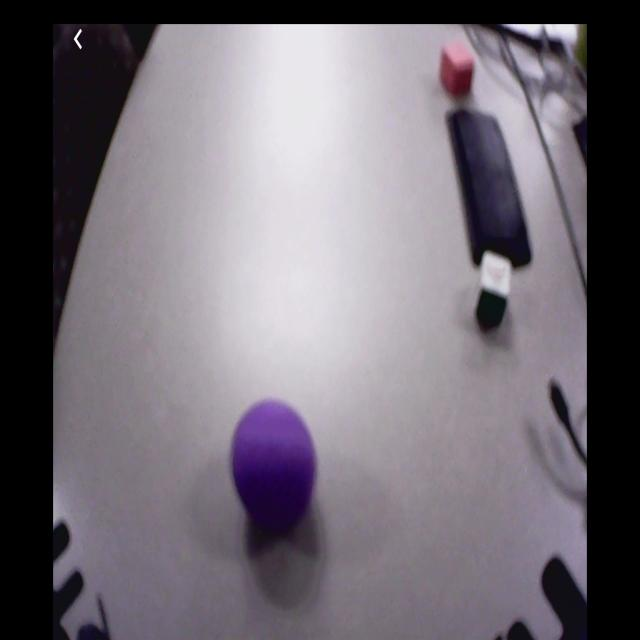ball: (233, 400, 316, 524)
